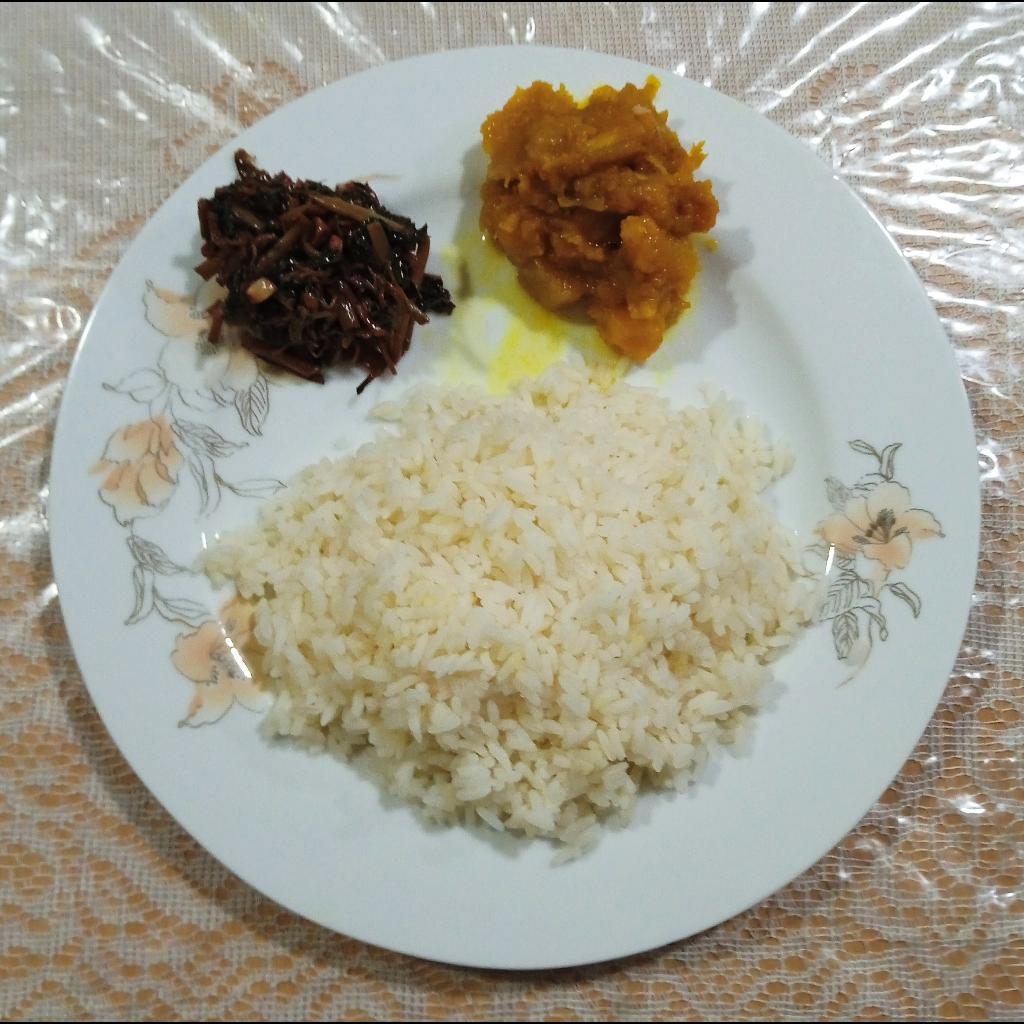kumra-vaji: (474, 75, 724, 366)
lal-shak: (191, 147, 458, 393)
rice: (194, 337, 825, 864)
